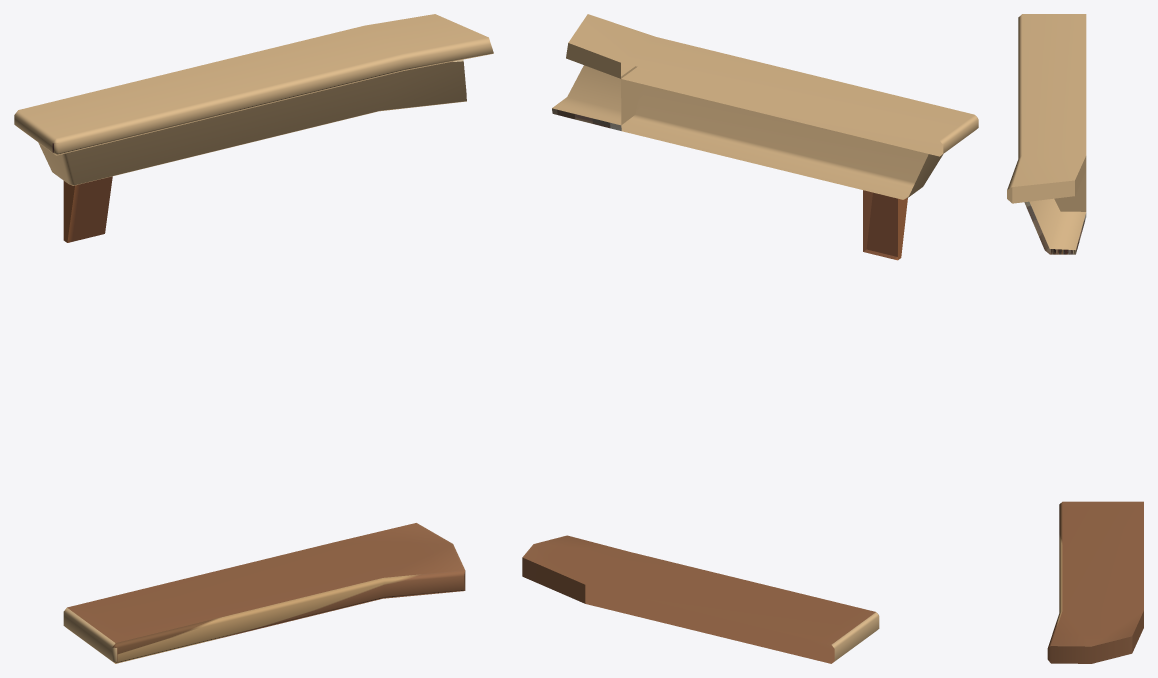
The model's file is DBK_WinDouble_Trim_B_Side.fbx.
3 views of the same model, side by side, from view 1: azimuth 30°, elevation 25°; view 2: azimuth 150°, elevation 25°; view 3: azimuth 270°, elevation 25° (orthographic). The views are drawn at different scales.
Parts seen in each view (by area): view 1: DBK_WinDouble_Trim_B_Side; view 2: DBK_WinDouble_Trim_B_Side; view 3: DBK_WinDouble_Trim_B_Side.
Boxes of the visible parts, x1,y1,x2,y2 form: DBK_WinDouble_Trim_B_Side: (14, 14, 493, 663); DBK_WinDouble_Trim_B_Side: (522, 14, 978, 663); DBK_WinDouble_Trim_B_Side: (1007, 14, 1143, 663).
Bounding box in the file's own units: 118 × 146 × 37.97.
